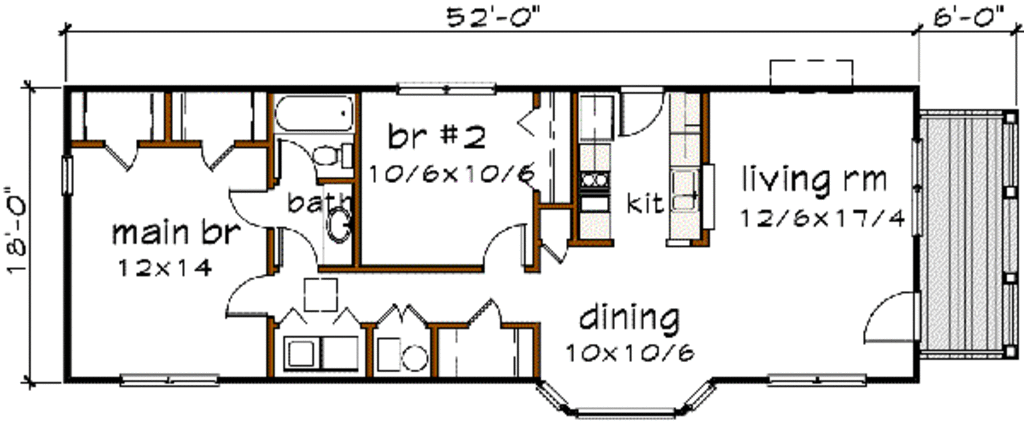door: (613, 77, 670, 145), (858, 288, 920, 344), (484, 220, 530, 277), (221, 269, 275, 317), (274, 135, 322, 188), (273, 224, 320, 274), (230, 186, 276, 229), (101, 134, 148, 176), (371, 300, 439, 329), (192, 138, 241, 172), (461, 298, 515, 327)
large_sink: (308, 142, 361, 176)
small_sink: (315, 200, 356, 263)
tub: (274, 91, 349, 130)
twin_sink: (664, 165, 702, 217)
window: (540, 380, 718, 418), (392, 73, 509, 104), (766, 364, 872, 395), (115, 372, 222, 390), (50, 146, 79, 193)
